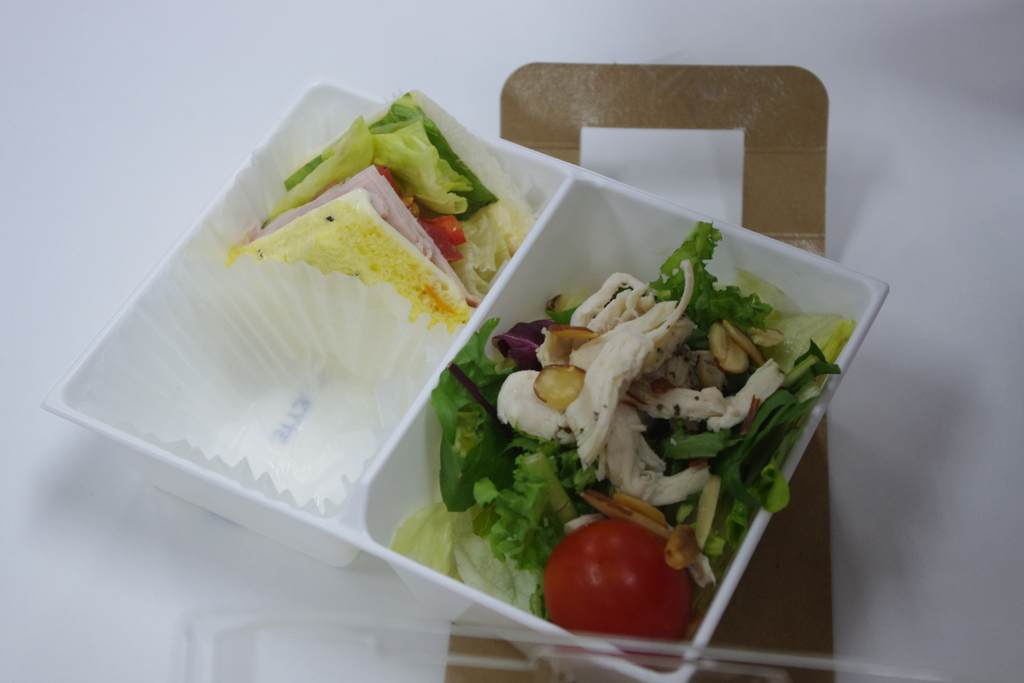Tomato: (552, 512, 704, 641)
